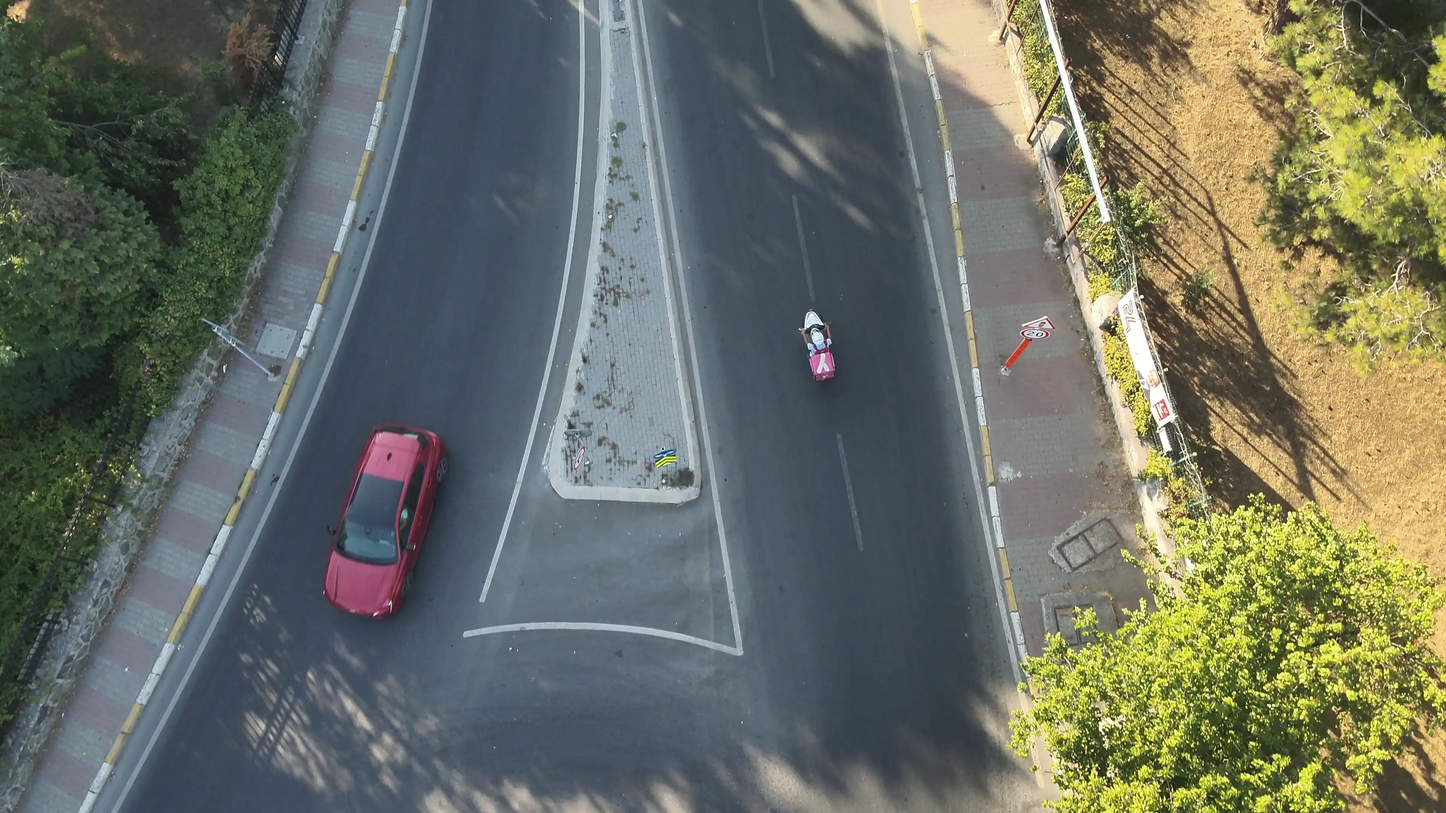vehicle: (321, 424, 449, 624), (801, 305, 838, 388)
